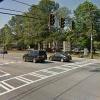Crosswalk: (4, 61, 88, 93)
